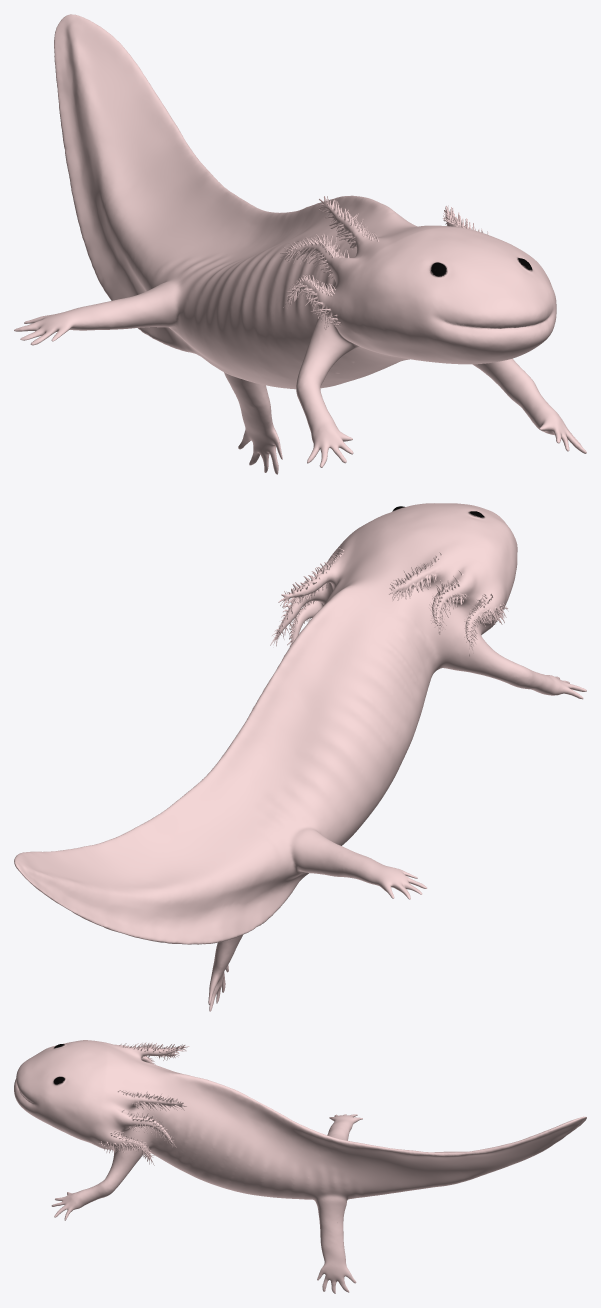
File: fw_axolotl.glb
The picture shows the model from 3 angles, top to bottom: view 1: azimuth 30°, elevation 25°; view 2: azimuth 150°, elevation 25°; view 3: azimuth 270°, elevation 25°; orthographic projection. The views are drawn at different scales.
Visible parts, largest first — view 1: Cube; view 2: Cube; view 3: Cube.
Boxes of the visible parts, left/top/right/bottom form: Cube: left=14, top=14, right=586, bottom=474; Cube: left=14, top=503, right=586, bottom=1011; Cube: left=14, top=1040, right=586, bottom=1293.
Bounding box in the file's own units: 4.14 × 4.74 × 10.48.
